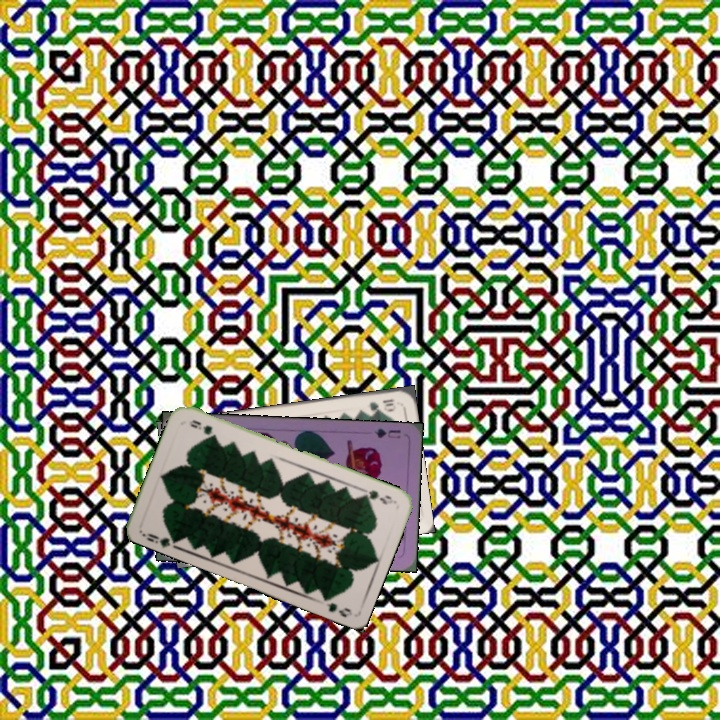G10: (365, 395, 398, 414)
G9: (357, 485, 398, 507), (138, 529, 179, 549)
GU: (371, 425, 403, 441)
